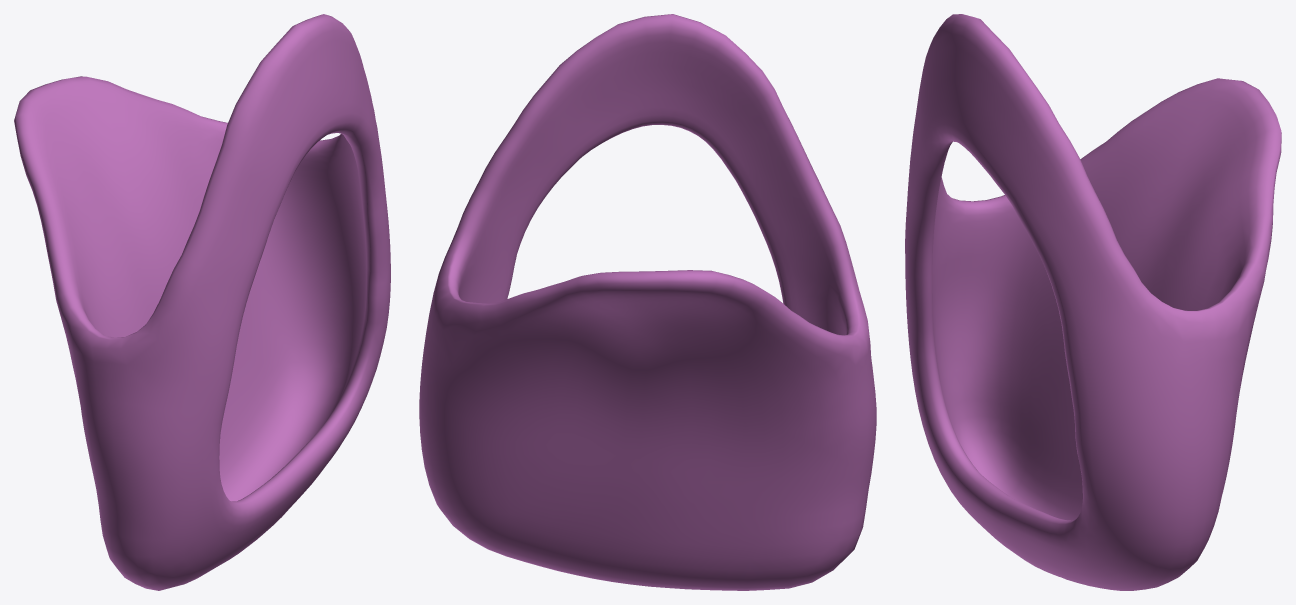
File: TR2_Frame_Classic.001.glb
3 views of the same model, side by side, from view 1: azimuth 30°, elevation 25°; view 2: azimuth 150°, elevation 25°; view 3: azimuth 270°, elevation 25° (orthographic). The views are drawn at different scales.
Parts seen in each view (by area): view 1: TR2_Frame_Classic.001; view 2: TR2_Frame_Classic.001; view 3: TR2_Frame_Classic.001.
Boxes of the visible parts, x1,y1,x2,y2 form: TR2_Frame_Classic.001: (14,14,390,590); TR2_Frame_Classic.001: (419,14,876,590); TR2_Frame_Classic.001: (905,14,1281,590).
Size of the model in its own units: 0.7108 by 1 by 0.606.
